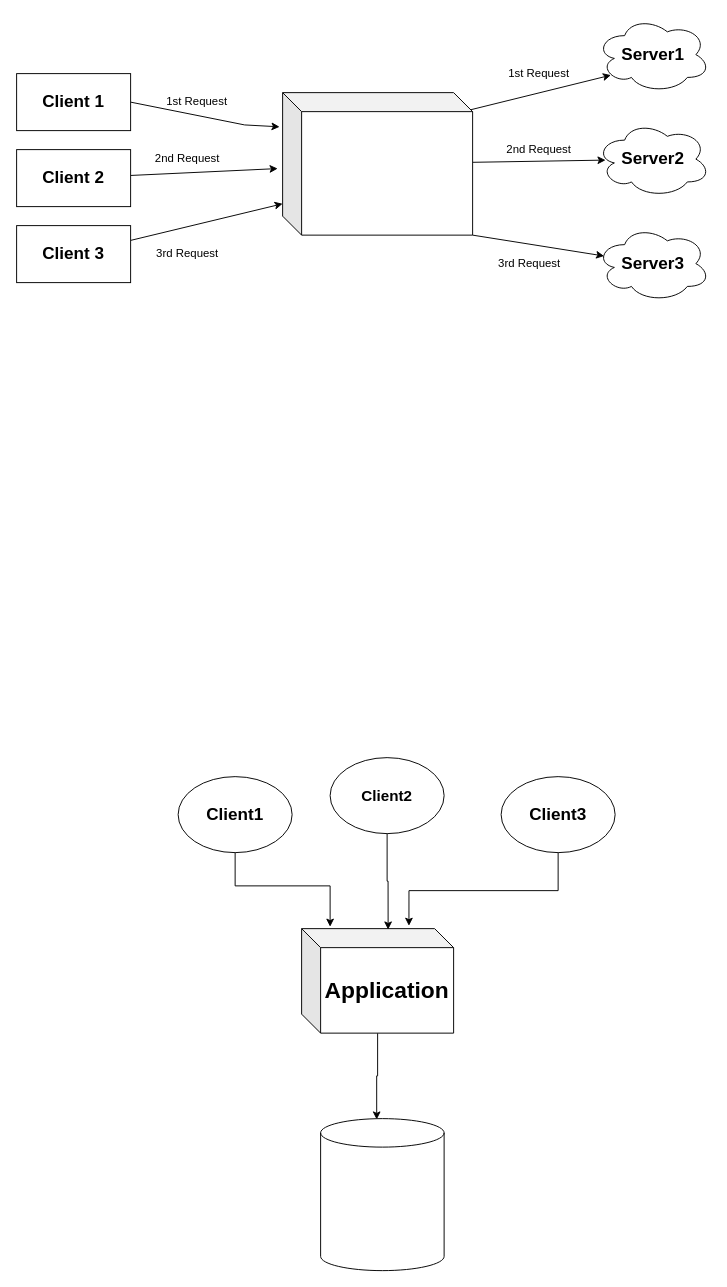
This 727x1287 diagram has some shape labels left out. The shapes that lost their labels are listed below. From the top down, each one's centre as x and y in pixels, then its label:
the point at 377,163: Load Balancer
the point at 382,1194: Database
